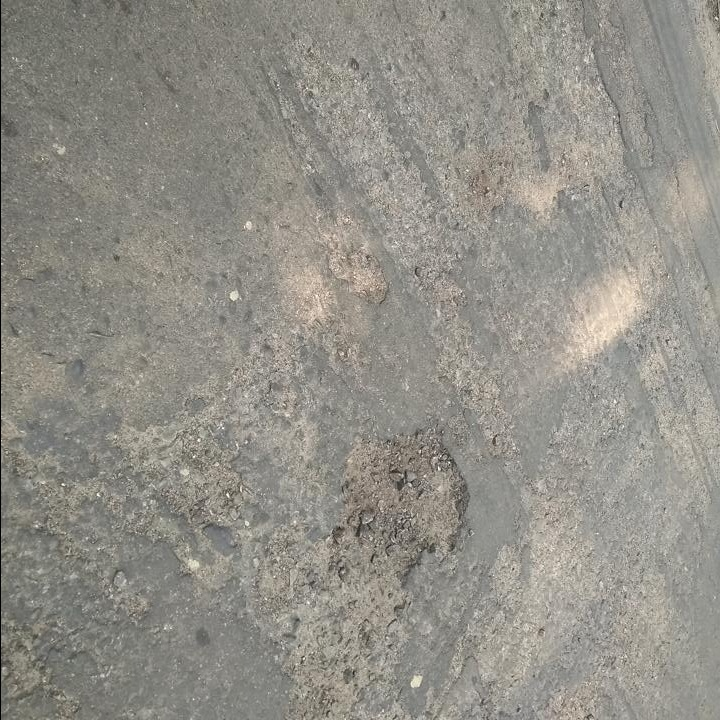pothole: (342, 419, 473, 583), (112, 406, 247, 532), (328, 245, 391, 308)
